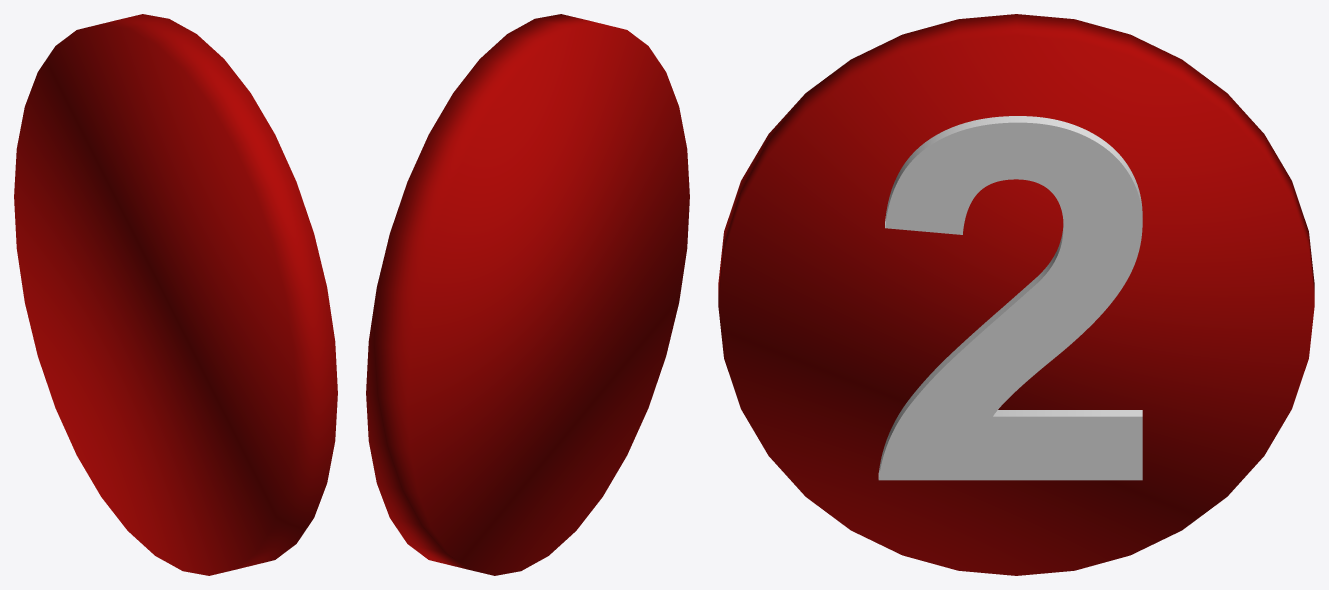
File: StageNumber_2.fbx
The picture shows the model from 3 angles, left to right: view 1: azimuth 30°, elevation 25°; view 2: azimuth 150°, elevation 25°; view 3: azimuth 270°, elevation 25°; orthographic projection. The views are drawn at different scales.
Visible parts, largest first — view 1: 2; view 2: 2; view 3: 2.
Part boxes in pixels (left/top/right/bottom): 2: left=14, top=14, right=337, bottom=575; 2: left=366, top=14, right=689, bottom=575; 2: left=718, top=14, right=1314, bottom=575.
Size of the model in its own units: 10.48 by 94 by 94.
